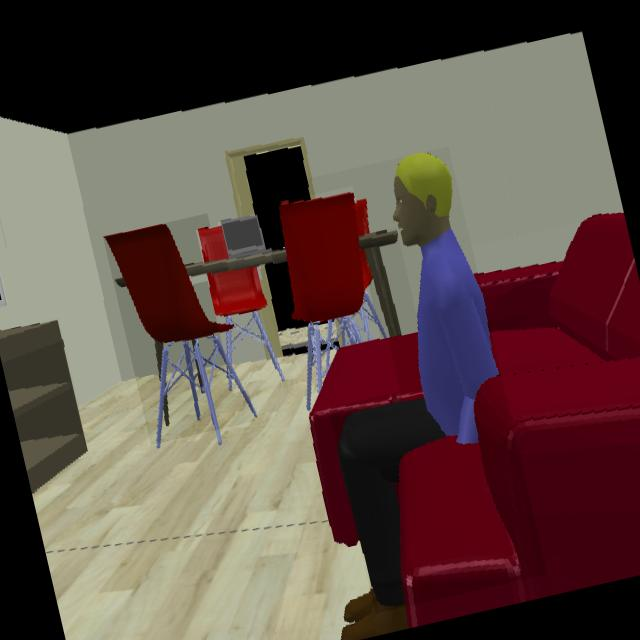chair: (104, 225, 233, 443), (279, 193, 388, 412), (208, 269, 285, 380), (198, 225, 228, 262)
laptop: (221, 217, 271, 264)
person: (338, 154, 499, 608)
shelf: (0, 321, 86, 491)
sofa: (311, 217, 640, 626)
table: (359, 231, 401, 337), (185, 248, 287, 277)
